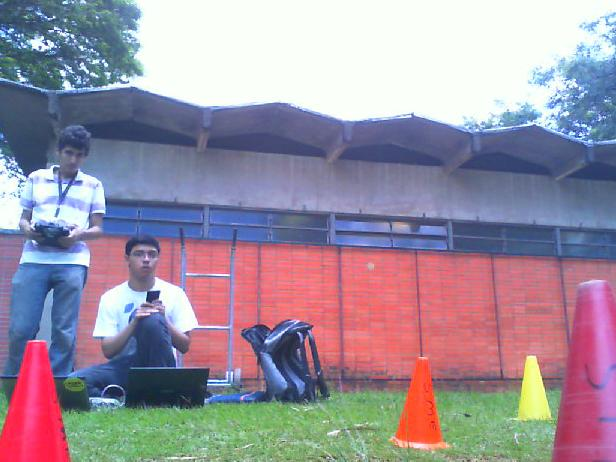0 cone: (546, 279, 616, 462), (0, 340, 73, 462), (388, 357, 449, 451), (504, 355, 554, 422)
